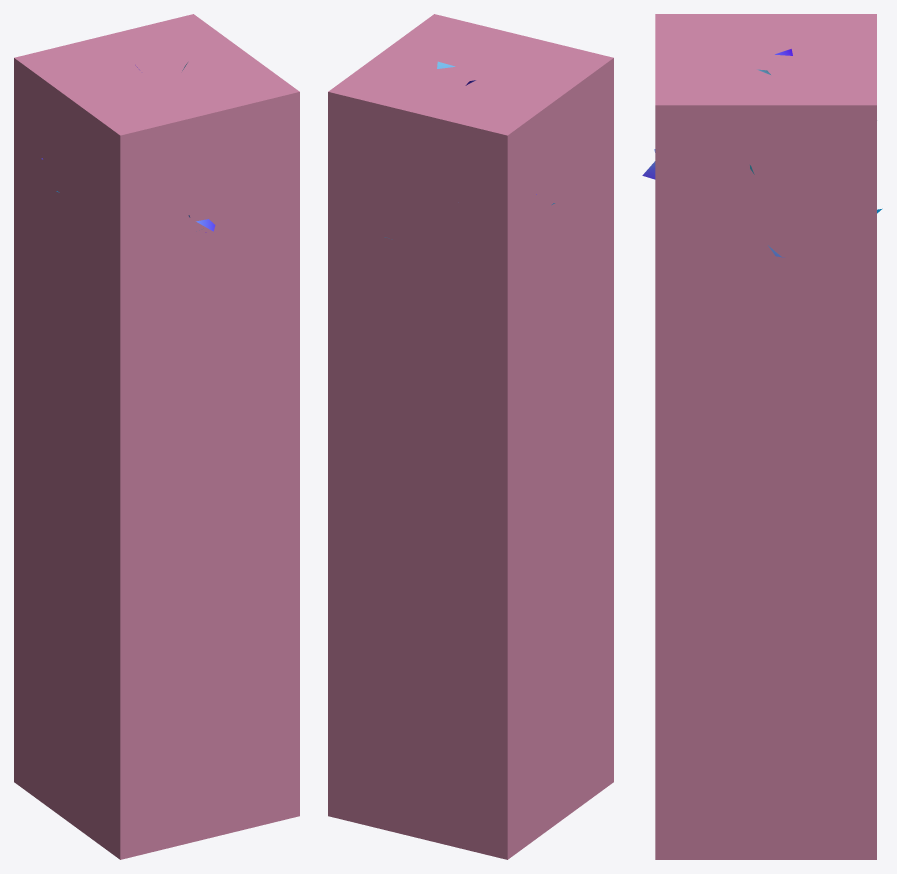
The model's file is tree_aspen_forest_b.dae.
3 views of the same model, side by side, from view 1: azimuth 30°, elevation 25°; view 2: azimuth 150°, elevation 25°; view 3: azimuth 270°, elevation 25° (orthographic). The views are drawn at different scales.
Visible parts, largest first — view 1: Untitled; view 2: Untitled; view 3: Untitled.
Boxes of the visible parts, <box> form: Untitled: <box>14,14,299,859</box>; Untitled: <box>328,14,613,859</box>; Untitled: <box>655,14,876,859</box>.
Bounding box in the file's own units: 5.52 × 5.74 × 20.02.
